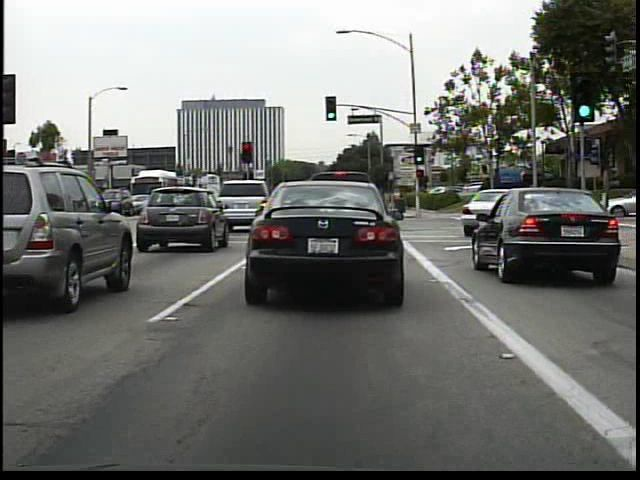person: (389, 182, 409, 216)
